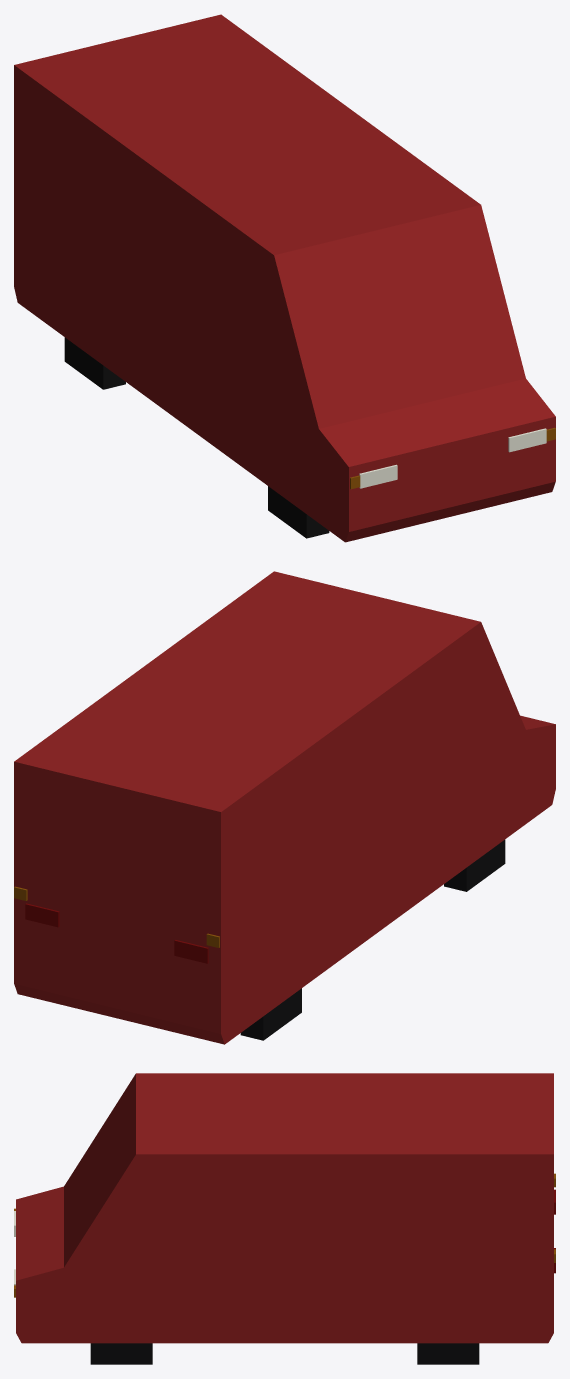
3 views of the same model, one above another, from view 1: azimuth 30°, elevation 25°; view 2: azimuth 150°, elevation 25°; view 3: azimuth 270°, elevation 25° (orthographic). The views are drawn at different scales.
Visible parts, largest first — view 1: shell, wheels; view 2: shell, wheels, taillight_L, taillight_R; view 3: shell, wheels.
Part boxes in pixels (box(x1,y1,x2,y2)): shell: box(14, 14, 555, 542); wheels: box(64, 337, 329, 538); shell: box(14, 571, 555, 1044); wheels: box(240, 839, 505, 1040); taillight_L: box(25, 903, 59, 927); taillight_R: box(174, 940, 208, 963); shell: box(16, 1073, 553, 1343); wheels: box(90, 1343, 479, 1364).
Bounding box in the file's own units: 2 × 2.43 × 5.64.
